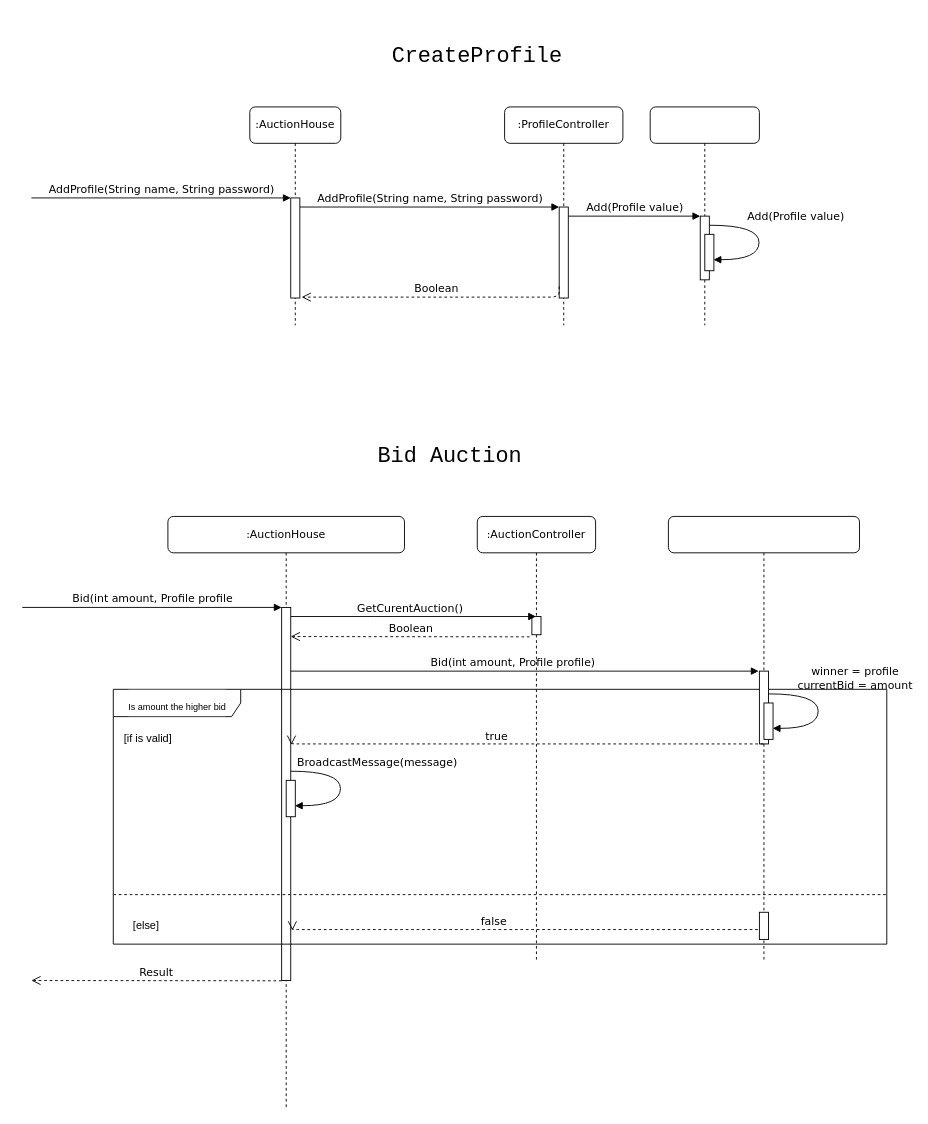
Some shapes in this 928 by 1124 pixel diagram are drawn without their labels. The shapes that lost their labels are listed below. From the top down, each one's centre as x and y in pixels, then its label:
At (x=704, y=215): ":ProfileRepository".
At (x=763, y=739): ":Auction".
